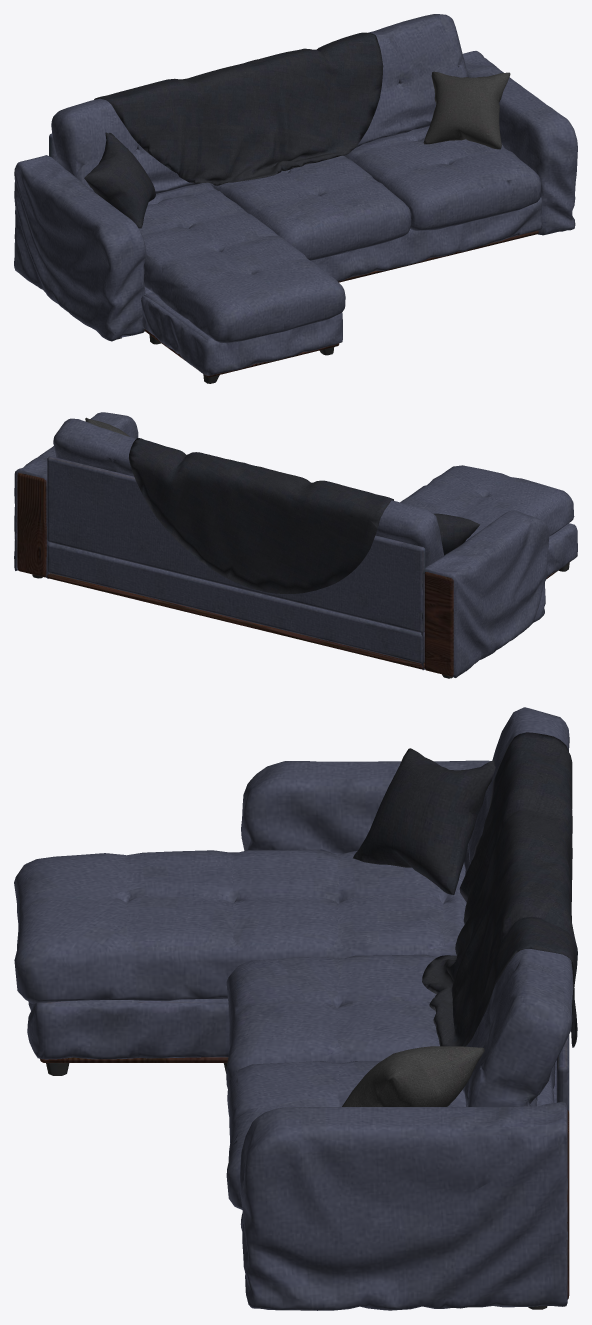
3 renders of one model, top to bottom at view 1: azimuth 30°, elevation 25°; view 2: azimuth 150°, elevation 25°; view 3: azimuth 270°, elevation 25°, orthographic. The views are drawn at different scales.
Parts seen in each view (by area): view 1: decoration_2_low, seat_cushions_2_low, upholstery_2_low, seat_cushions_0_low, seat_cushions_1_low, back_pillow_2_low, upholstery_3_low, upholstery_1_low, upholstery_0_low, back_pillow_0_low, decoration_1_low, decoration_0_low (+1 smaller); view 2: decoration_2_low, frame_4_low, upholstery_2_low, frame_3_low, seat_cushions_2_low, back_pillow_2_low, frame_1_low, frame_0_low, back_pillow_0_low, frame_2_low, upholstery_3_low, decoration_0_low (+1 smaller); view 3: upholstery_3_low, seat_cushions_2_low, decoration_2_low, seat_cushions_1_low, back_pillow_2_low, upholstery_2_low, decoration_0_low, upholstery_1_low, seat_cushions_0_low, decoration_1_low, back_pillow_0_low, frame_5_low (+1 smaller).
Part boxes in pixels (box(x1,y1,x2,y2)): decoration_2_low: box(94, 32, 383, 185); seat_cushions_2_low: box(139, 182, 345, 342); upholstery_2_low: box(14, 155, 146, 341); seat_cushions_0_low: box(344, 126, 541, 231); seat_cushions_1_low: box(209, 155, 411, 260); back_pillow_2_low: box(355, 14, 468, 148); upholstery_3_low: box(462, 51, 577, 235); upholstery_1_low: box(141, 295, 342, 375); upholstery_0_low: box(144, 197, 541, 295); back_pillow_0_low: box(51, 98, 202, 193); decoration_1_low: box(423, 71, 510, 149); decoration_0_low: box(84, 132, 155, 228); decoration_2_low: box(129, 438, 393, 594); frame_4_low: box(47, 456, 425, 632); upholstery_2_low: box(421, 510, 549, 677); frame_3_low: box(47, 542, 424, 663); seat_cushions_2_low: box(400, 465, 574, 541); back_pillow_2_low: box(53, 418, 136, 476); frame_1_low: box(17, 472, 46, 577); frame_0_low: box(424, 572, 453, 676); back_pillow_0_low: box(375, 500, 443, 567); frame_2_low: box(47, 573, 424, 669); upholstery_3_low: box(14, 412, 138, 578); decoration_0_low: box(434, 513, 479, 555); upholstery_3_low: box(240, 1101, 567, 1310); seat_cushions_2_low: box(14, 849, 466, 1003); decoration_2_low: box(422, 732, 577, 1047); seat_cushions_1_low: box(226, 954, 555, 1088); back_pillow_2_low: box(462, 949, 573, 1106); upholstery_2_low: box(241, 760, 490, 853); decoration_0_low: box(353, 748, 495, 894); upholstery_1_low: box(27, 1002, 229, 1059); seat_cushions_0_low: box(226, 1061, 554, 1209); decoration_1_low: box(342, 1046, 484, 1106); back_pillow_0_low: box(464, 707, 569, 874); frame_5_low: box(40, 1057, 228, 1062).
Bounding box in the file's own units: 2.57 × 0.8878 × 1.61.
Materials: 3 (3 with a texture image).
